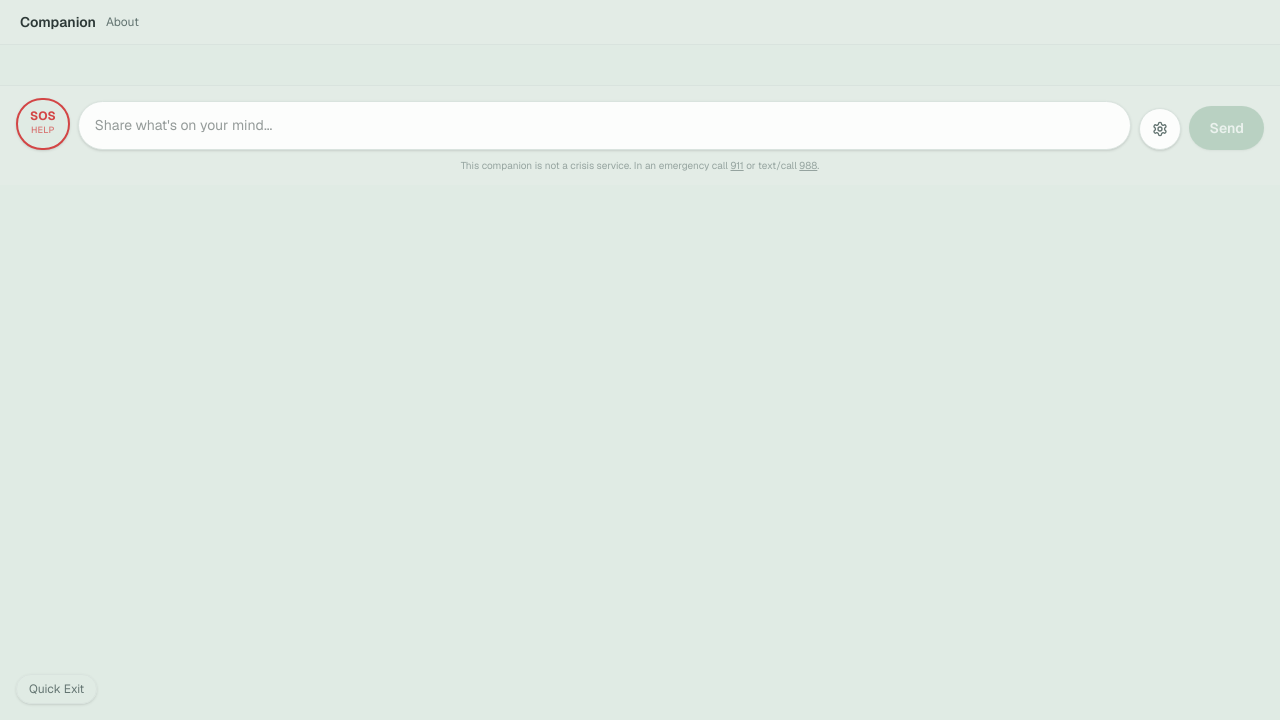
Scenario: Chat crisis follow-up timer › appends CRISIS_FOLLOWUP after 45 s of silence following a crisis event
In the text box with placeholder "Share what's on your mind...": (605, 125) [78,101,1132,150], type "I want to die"
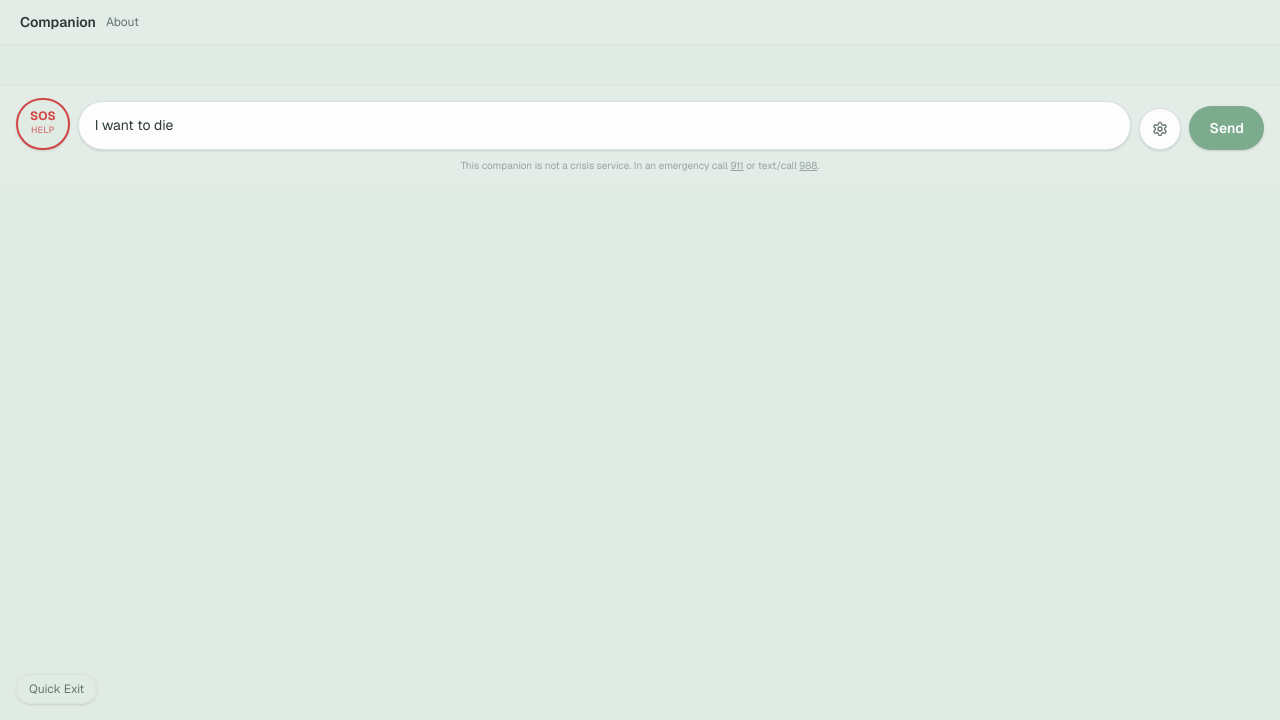
Press Enter in the text box with placeholder "Share what's on your mind...", box [78,101,1132,150]
Wait 50100 ms
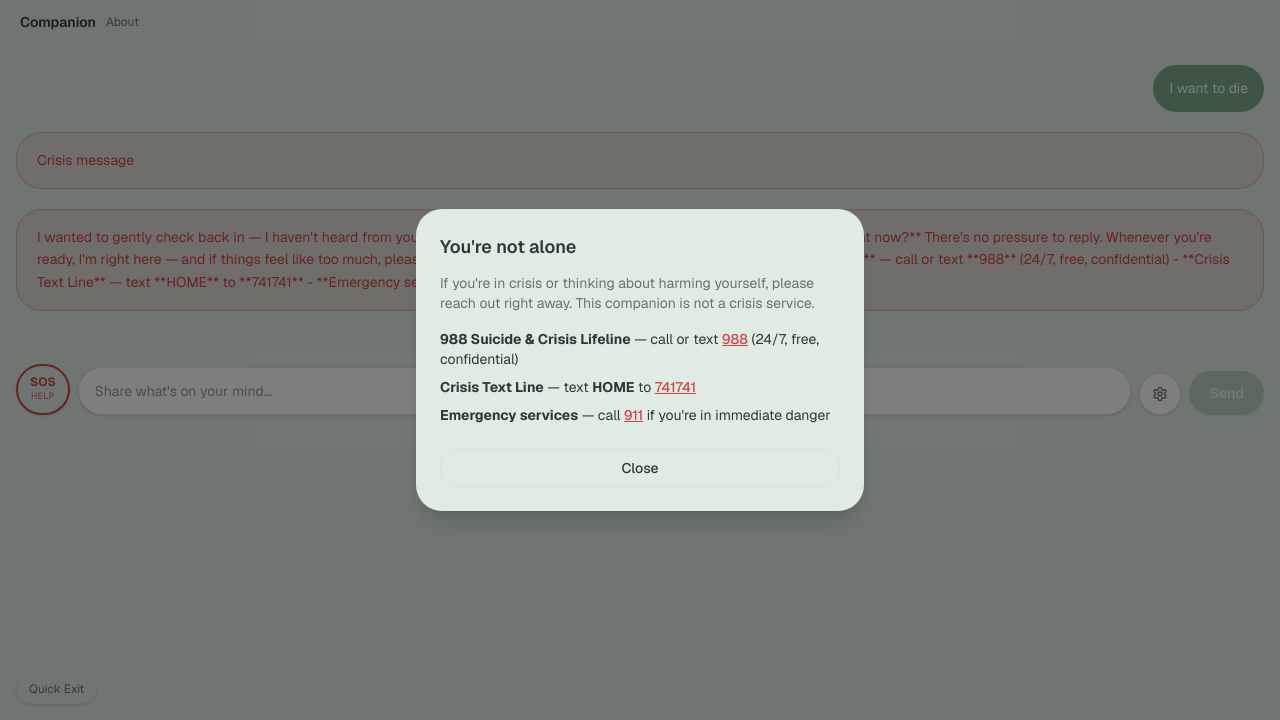
Now the text "gently check back in" is shown, box [37,228,1230,291]
